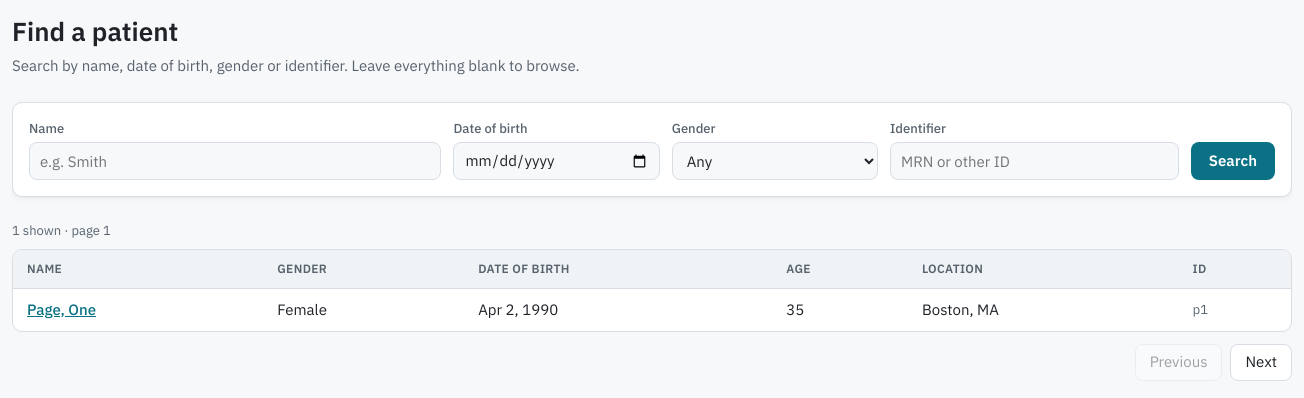
it: SearchPage › pages through results with the server's next links
expect the link "Page, One" is shown: met, box [27,300,96,318]
expect the button "Previous" is disabled: met, box [1135,344,1222,380]
Click the button "Next": (1261, 362) [1230,344,1292,380]
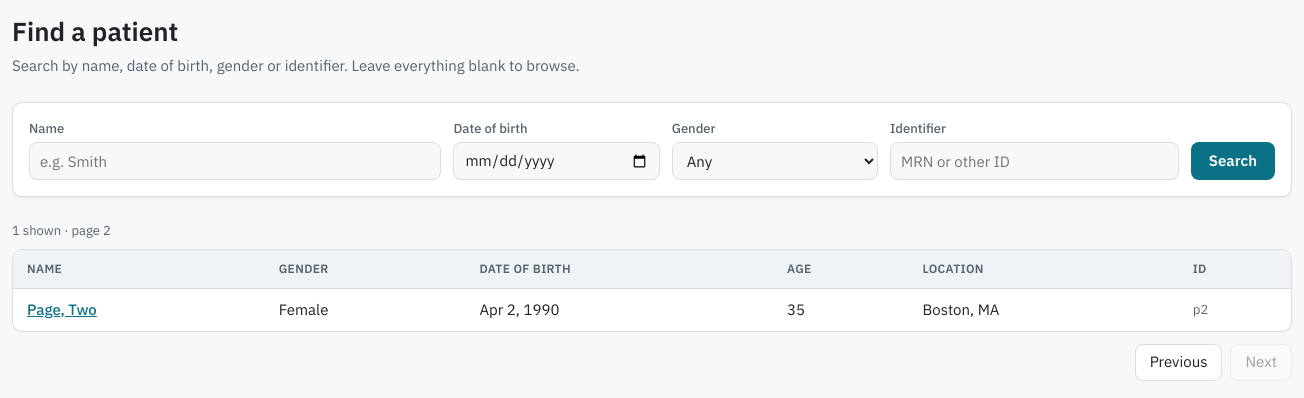
expect the link "Page, Two" is shown: met, box [27,300,97,318]
expect the button "Next" is disabled: met, box [1230,344,1292,380]
Click the button "Previous": (1178, 362) [1135,344,1222,380]
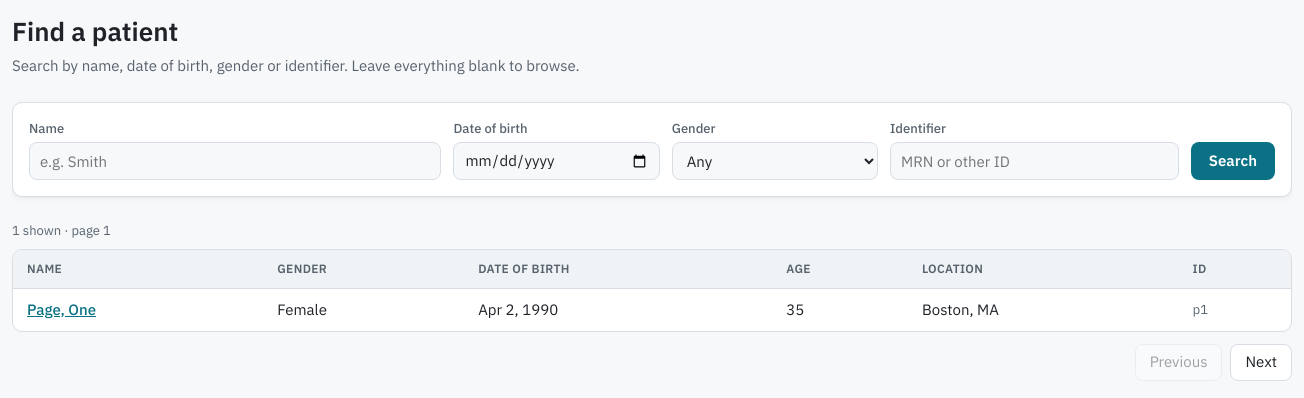
expect the link "Page, One" is shown: met, box [27,300,96,318]
